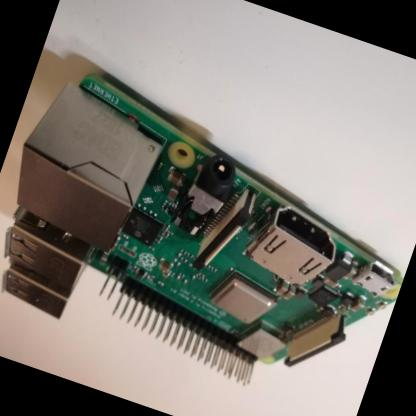Raspberry_Pi_3: (1, 58, 416, 416)
